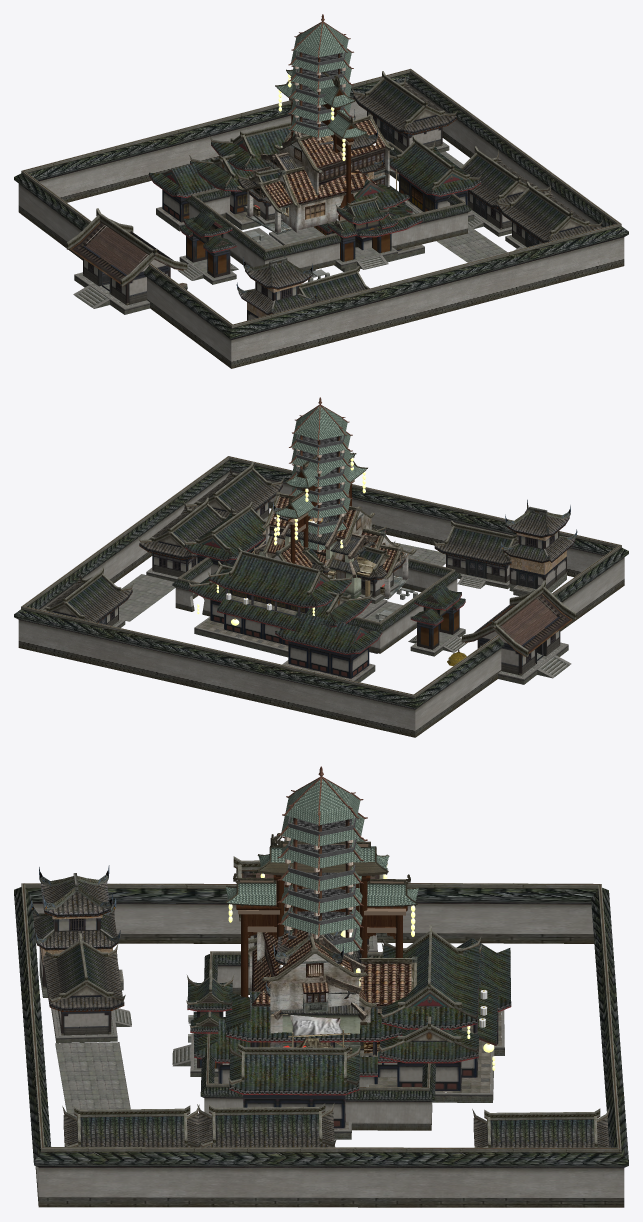
The model's file is funiture1.glb.
3 renders of one model, top to bottom at view 1: azimuth 30°, elevation 25°; view 2: azimuth 150°, elevation 25°; view 3: azimuth 270°, elevation 25°, orthographic. The views are drawn at different scales.
Visible parts, largest first — view 1: 1.3135, 1.565, 1.1654, 1.1697, 1.551, 1.1922, 1.024, 1.1652, 1.1655, 1.1921, 1.1659, 1.3143 (+16 smaller); view 2: 1.3135, 1.565, 1.551, 1.1654, 1.1697, 1.024, 1.3140, 1.1655, 1.1652, 1.1659, 1.1922, 1.1661 (+19 smaller); view 3: 1.3135, 1.565, 1.551, 1.1697, 1.1654, 1.024, 1.1922, 1.1655, 1.3140, 1.8145, 1.1921, 1.8173 (+14 smaller).
Boxes of the visible parts, box(x1,y1,x2,y2) form: 1.3135: box(18, 83, 627, 368); 1.565: box(14, 73, 628, 338); 1.1654: box(21, 68, 621, 328); 1.1697: box(70, 80, 601, 315); 1.551: box(149, 121, 480, 267); 1.1922: box(236, 114, 395, 213); 1.024: box(288, 14, 353, 142); 1.1652: box(73, 142, 524, 314); 1.1655: box(79, 139, 526, 307); 1.1921: box(247, 142, 389, 232); 1.1659: box(83, 111, 542, 304); 1.3143: box(186, 227, 391, 277); 1.3135: box(14, 470, 624, 737); 1.565: box(14, 460, 628, 708); 1.551: box(184, 506, 547, 654); 1.1654: box(21, 456, 621, 698); 1.1697: box(43, 471, 575, 642); 1.024: box(289, 397, 352, 551); 1.3140: box(197, 556, 369, 678); 1.1655: box(112, 516, 563, 677); 1.1652: box(114, 513, 571, 684); 1.1659: box(106, 501, 560, 674); 1.1922: box(260, 491, 416, 579); 1.1661: box(374, 556, 566, 675); 1.3135: box(33, 901, 628, 1207); 1.565: box(14, 865, 628, 1165); 1.551: box(73, 873, 511, 1095); 1.1697: box(33, 871, 609, 1147); 1.1654: box(21, 854, 621, 1152); 1.024: box(277, 766, 367, 972); 1.1922: box(248, 925, 417, 1035); 1.1655: box(55, 936, 373, 1117); 1.3140: box(218, 1006, 498, 1128); 1.8145: box(236, 875, 407, 997); 1.1921: box(248, 932, 385, 1044); 1.8173: box(226, 846, 418, 905).
Bounding box in the file's own units: 0.8028 × 0.3875 × 0.6989.
77 materials, 66 textured.
